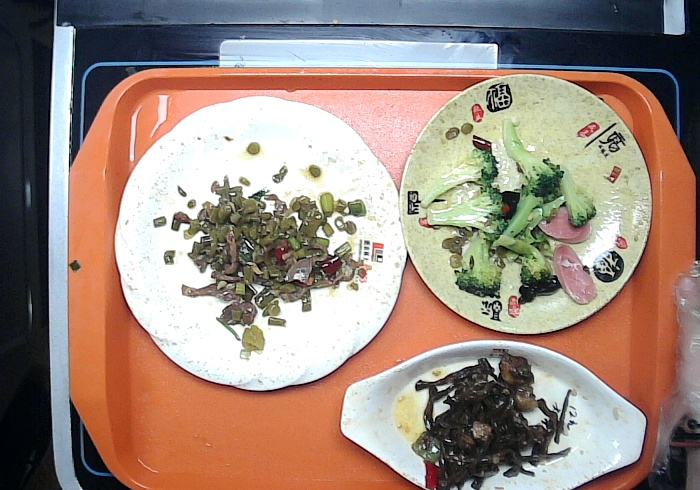NLDX-Bai_Zhe_Yuan_Pan: (108, 89, 412, 393)
NLDX-Fu_Zi_Yuan_Pan: (394, 70, 655, 339)
NLDX-Yu_Pan: (331, 336, 652, 488)
